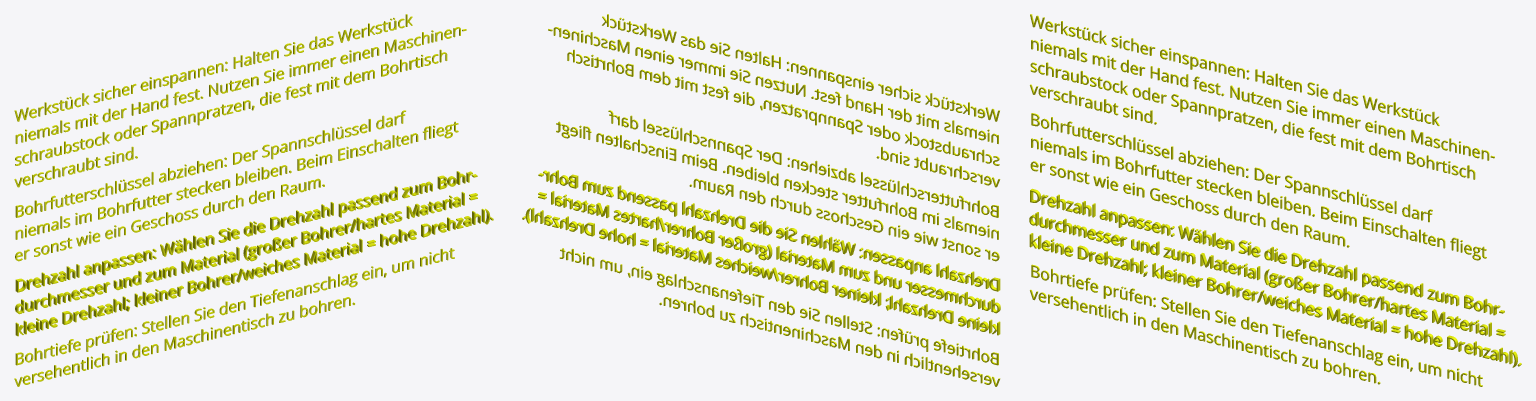
The model's file is Warnung Standbohrer.obj.
The picture shows the model from 3 angles, left to right: view 1: azimuth 30°, elevation 25°; view 2: azimuth 150°, elevation 25°; view 3: azimuth 330°, elevation 25°; orthographic projection. The views are drawn at different scales.
Size of the model in its own units: 3.29 by 1.83 by 0.0254.
